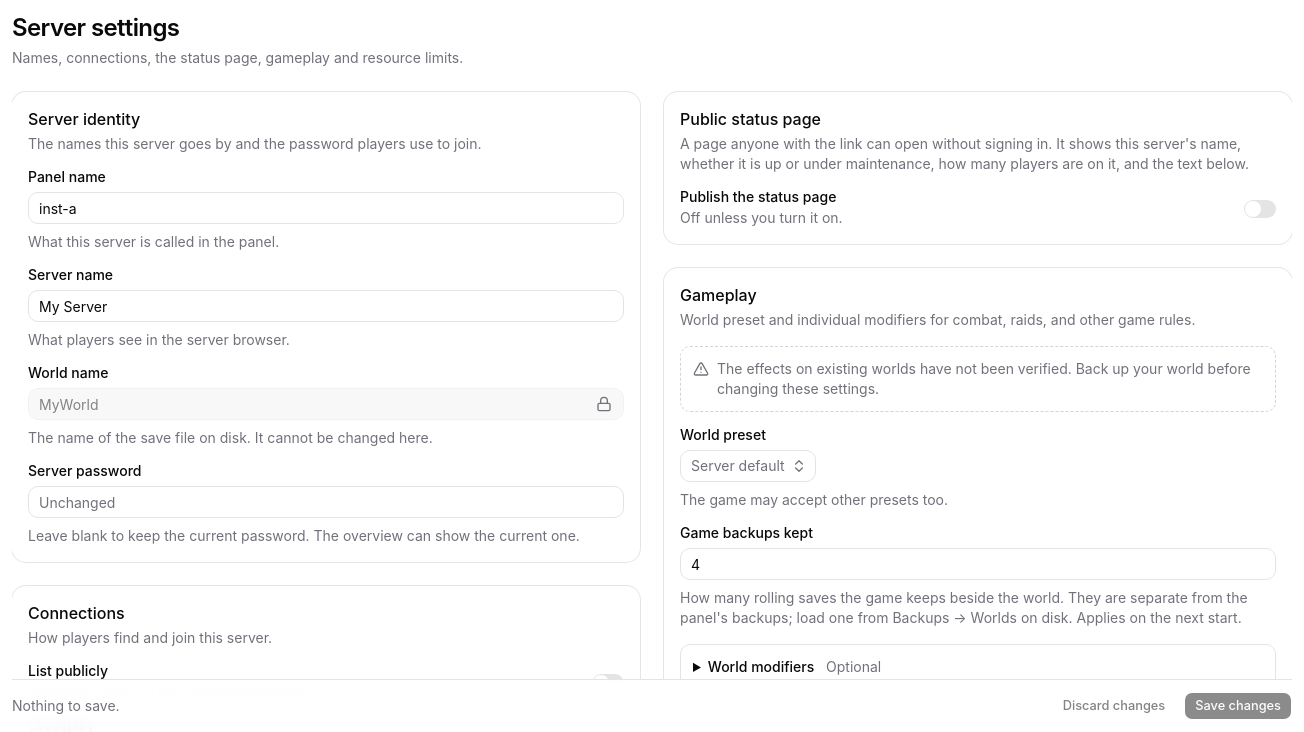
Test: the server settings screen › shows the row the daemon returned after a save
Replace the text in the field labelled "Server name" with "typed by operator": (326, 306) [28,290,624,322]
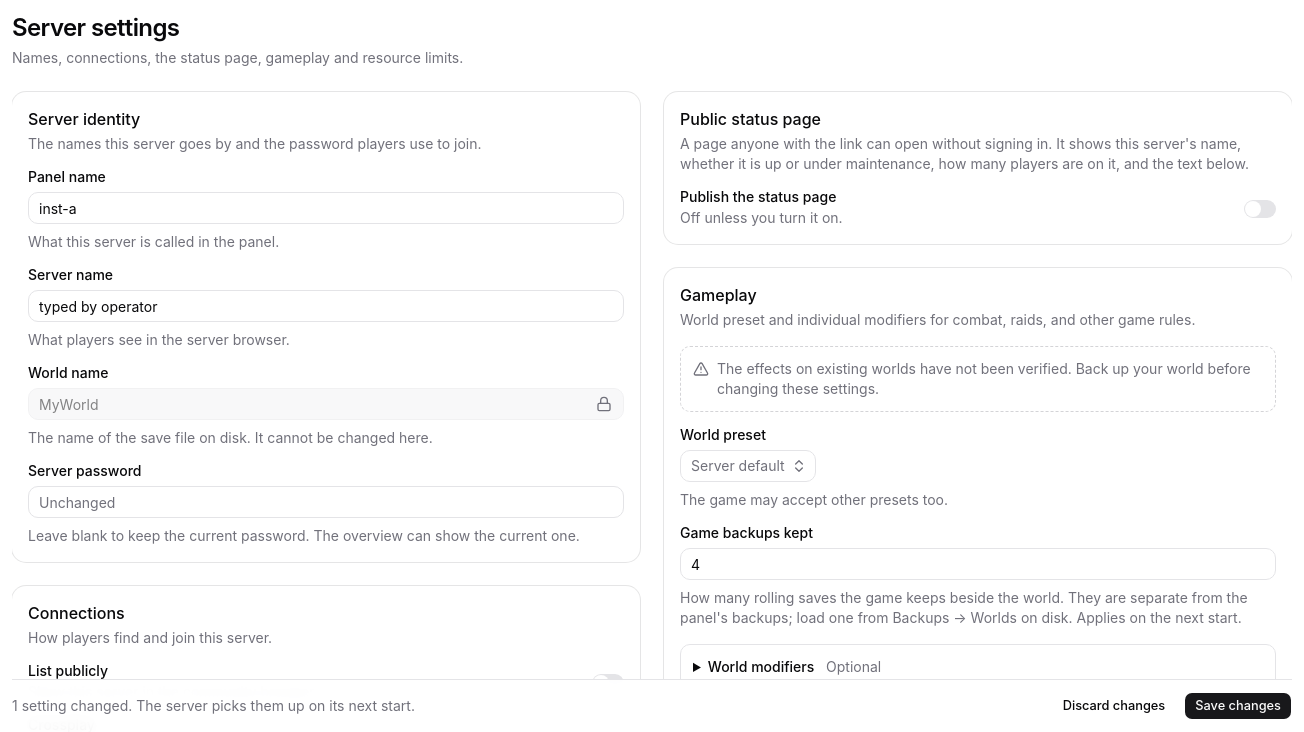
Click the button "Save changes": (1238, 706) [1184,692,1292,720]
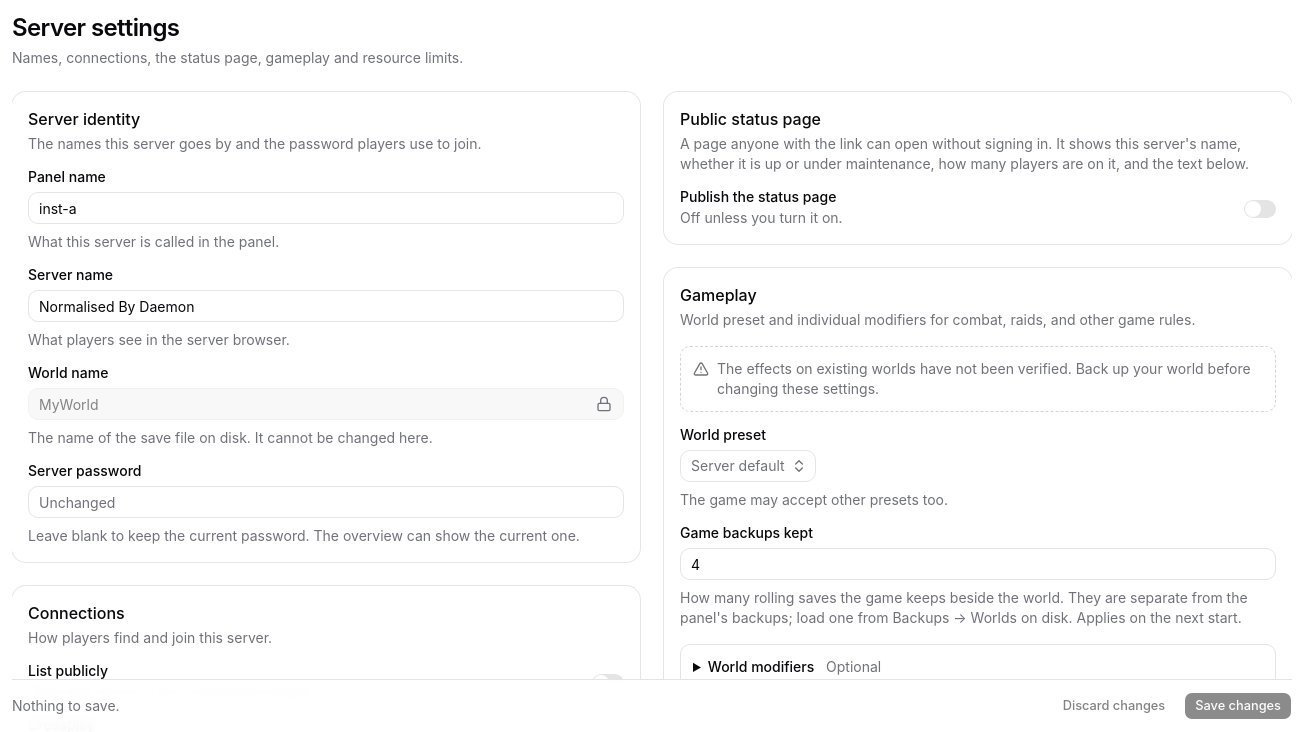
Result: the field labelled "Server name" holds "Normalised By Daemon" at [28,290,624,322]
Result: the text "Nothing to save." is shown at [12,696,120,716]
